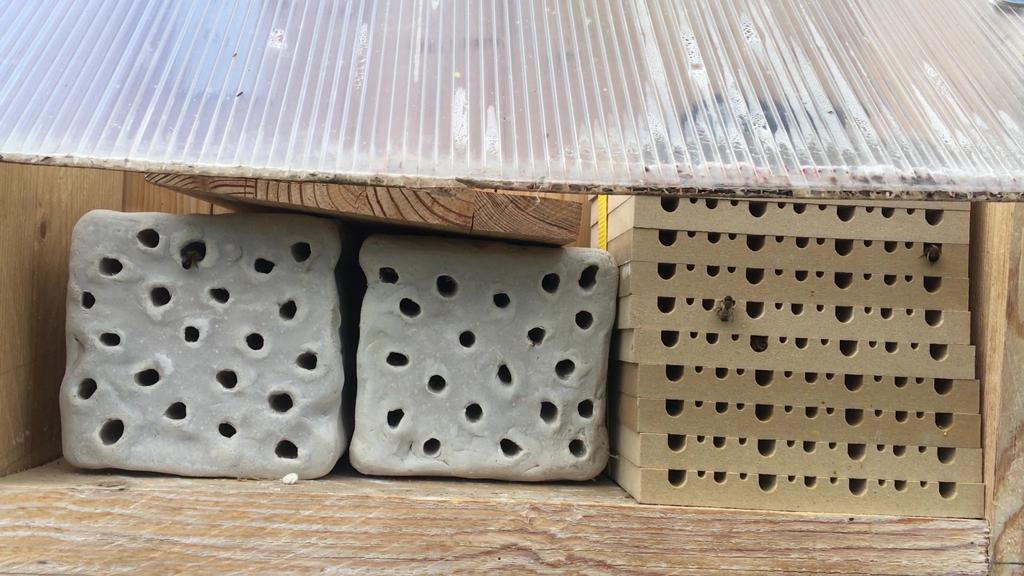bee: (915, 233, 947, 267)
